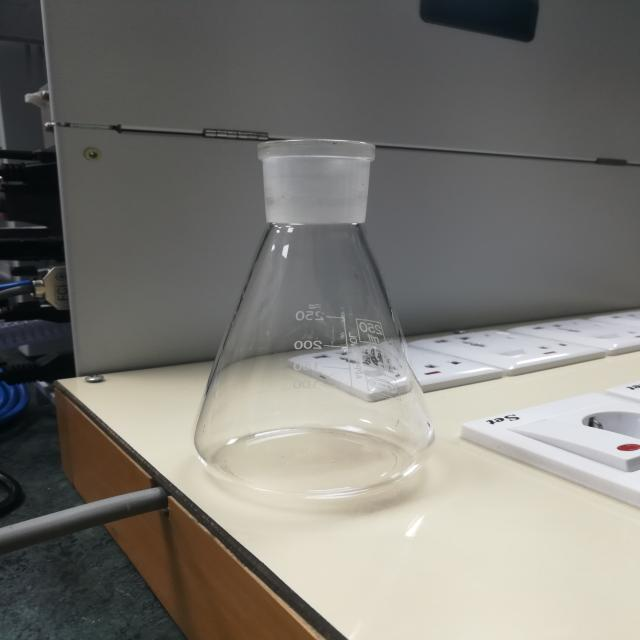Conical_Flask: (132, 108, 502, 534)
